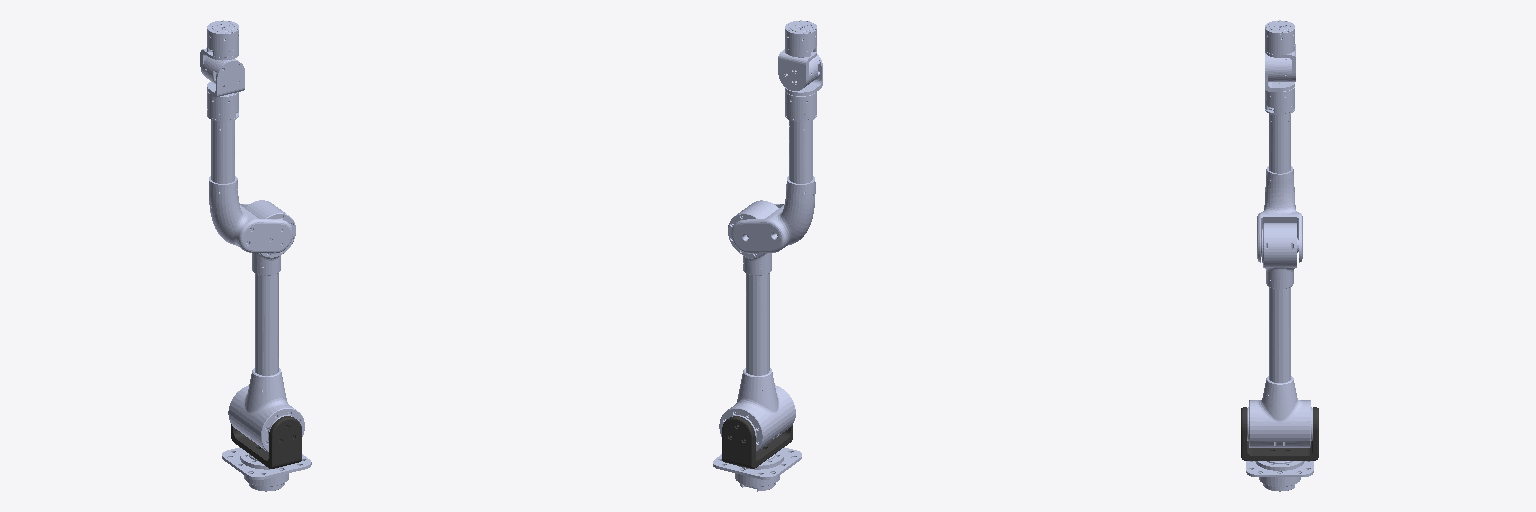
URDF robot description (URDF):
<?xml version="1.0" encoding="utf-8"?>
<!-- This URDF was automatically created by SolidWorks to URDF Exporter! Originally created by [author] ([email redacted]) 
     Commit Version: 1.6.0-4-g7f85cfe  Build Version: 1.6.7995.38578
     For more information, please see http://wiki.ros.org/sw_urdf_exporter -->
<robot
  name="URDF">
  <link
    name="base_link">
    <inertial>
      <origin
        xyz="-2.98138569159757E-07 -2.57705818131307E-05 -0.00630074222065985"
        rpy="0 0 0" />
      <mass
        value="0.254615459536077" />
      <inertia
        ixx="0.000174917439170166"
        ixy="1.33765277389404E-09"
        ixz="3.50835148793562E-11"
        iyy="0.000175251584401915"
        iyz="-4.8445630749553E-08"
        izz="0.000292230428037311" />
    </inertial>
    <visual>
      <origin
        xyz="0 0 0"
        rpy="0 0 0" />
      <geometry>
        <mesh
          filename="package://urdf/meshes/base_link.STL" />
      </geometry>
      <material
        name="">
        <color
          rgba="0.792156862745098 0.819607843137255 0.933333333333333 1" />
      </material>
    </visual>
    <collision>
      <origin
        xyz="0 0 0"
        rpy="0 0 0" />
      <geometry>
        <mesh
          filename="package://URDF/meshes/base_link.STL" />
      </geometry>
    </collision>
  </link>
  <link
    name="link_1">
    <inertial>
      <origin
        xyz="-7.80625564189563E-18 2.16840434497101E-18 0.0253614774605958"
        rpy="0 0 0" />
      <mass
        value="0.216802235799174" />
      <inertia
        ixx="0.000730974479023581"
        ixy="2.44742063739127E-20"
        ixz="8.2874946313673E-20"
        iyy="0.000201214284781248"
        iyz="1.19878054145156E-19"
        izz="0.000654802623748528" />
    </inertial>
    <visual>
      <origin
        xyz="0 0 0"
        rpy="0 0 0" />
      <geometry>
        <mesh
          filename="package://URDF/meshes/link_1.STL" />
      </geometry>
      <material
        name="">
        <color
          rgba="0.298039215686275 0.298039215686275 0.298039215686275 1" />
      </material>
    </visual>
    <collision>
      <origin
        xyz="0 0 0"
        rpy="0 0 0" />
      <geometry>
        <mesh
          filename="package://URDF/meshes/link_1.STL" />
      </geometry>
    </collision>
  </link>
  <joint
    name="joint_1"
    type="revolute">
    <origin
      xyz="0 0 0.016"
      rpy="0 0 0" />
    <parent
      link="base_link" />
    <child
      link="link_1" />
    <axis
      xyz="0 0 1" />
    <limit
      lower="0"
      upper="0"
      effort="0"
      velocity="0" />
  </joint>
  <link
    name="link_2">
    <inertial>
      <origin
        xyz="3.86748699289854E-07 -0.000871040592603672 0.118717954394452"
        rpy="0 0 0" />
      <mass
        value="1.02324732442607" />
      <inertia
        ixx="0.0010409833337174"
        ixy="-2.44410616277124E-10"
        ixz="1.04561618130573E-09"
        iyy="0.00108486643521652"
        iyz="-2.17884461253485E-06"
        izz="0.000813726982996527" />
    </inertial>
    <visual>
      <origin
        xyz="0 0 0"
        rpy="0 0 0" />
      <geometry>
        <mesh
          filename="package://URDF/meshes/link_2.STL" />
      </geometry>
      <material
        name="">
        <color
          rgba="0.792156862745098 0.819607843137255 0.933333333333333 1" />
      </material>
    </visual>
    <collision>
      <origin
        xyz="0 0 0"
        rpy="0 0 0" />
      <geometry>
        <mesh
          filename="package://URDF/meshes/link_2.STL" />
      </geometry>
    </collision>
  </link>
  <joint
    name="joint_2"
    type="revolute">
    <origin
      xyz="0 0 0.0600000000909806"
      rpy="0 0 0" />
    <parent
      link="link_1" />
    <child
      link="link_2" />
    <axis
      xyz="0 -1 0" />
    <limit
      lower="0"
      upper="0"
      effort="0"
      velocity="0" />
  </joint>
  <link
    name="link_3">
    <inertial>
      <origin
        xyz="-0.0647269511706695 0.00011712180289797 0.0756552938999491"
        rpy="0 0 0" />
      <mass
        value="0.41975996998103" />
      <inertia
        ixx="0.000407744522391826"
        ixy="-9.23082205553972E-07"
        ixz="0.000147065399235861"
        iyy="0.000607574694532842"
        iyz="3.75502039221228E-07"
        izz="0.000328351192949401" />
    </inertial>
    <visual>
      <origin
        xyz="0 0 0"
        rpy="0 0 0" />
      <geometry>
        <mesh
          filename="package://URDF/meshes/link_3.STL" />
      </geometry>
      <material
        name="">
        <color
          rgba="0.792156862745098 0.819607843137255 0.933333333333333 1" />
      </material>
    </visual>
    <collision>
      <origin
        xyz="0 0 0"
        rpy="0 0 0" />
      <geometry>
        <mesh
          filename="package://URDF/meshes/link_3.STL" />
      </geometry>
    </collision>
  </link>
  <joint
    name="joint_3"
    type="revolute">
    <origin
      xyz="0 0 0.350000000310628"
      rpy="0 0 0" />
    <parent
      link="link_2" />
    <child
      link="link_3" />
    <axis
      xyz="0 -1 0" />
    <limit
      lower="0"
      upper="0"
      effort="0"
      velocity="0" />
  </joint>
  <link
    name="link_4">
    <inertial>
      <origin
        xyz="0.000263294390210542 -0.0036132120084184 0.0278836872340231"
        rpy="0 0 0" />
      <mass
        value="0.075580412789999" />
      <inertia
        ixx="2.77601546415907E-05"
        ixy="-3.4768276366302E-09"
        ixz="3.12547328983328E-09"
        iyy="3.5835509729187E-05"
        iyz="4.89228919447582E-06"
        izz="2.48012939160028E-05" />
    </inertial>
    <visual>
      <origin
        xyz="0 0 0"
        rpy="0 0 0" />
      <geometry>
        <mesh
          filename="package://URDF/meshes/link_4.STL" />
      </geometry>
      <material
        name="">
        <color
          rgba="0.792156862745098 0.819607843137255 0.933333333333333 1" />
      </material>
    </visual>
    <collision>
      <origin
        xyz="0 0 0"
        rpy="0 0 0" />
      <geometry>
        <mesh
          filename="package://URDF/meshes/link_4.STL" />
      </geometry>
    </collision>
  </link>
  <joint
    name="joint_4"
    type="revolute">
    <origin
      xyz="-0.083472071148278 1.39946780669566E-05 0.275646856718986"
      rpy="0 0 0" />
    <parent
      link="link_3" />
    <child
      link="link_4" />
    <axis
      xyz="0 0 -1" />
    <limit
      lower="0"
      upper="0"
      effort="0"
      velocity="0" />
  </joint>
  <link
    name="link_5">
    <inertial>
      <origin
        xyz="0.000276756455783012 0.00740062480301982 0.0378756871794224"
        rpy="0 0 0" />
      <mass
        value="0.0701421412360654" />
      <inertia
        ixx="2.78197628040674E-05"
        ixy="3.40109199998186E-10"
        ixz="-3.37755318540743E-09"
        iyy="2.77107028290931E-05"
        iyz="4.92841394090968E-06"
        izz="3.23157378784047E-05" />
    </inertial>
    <visual>
      <origin
        xyz="0 0 0"
        rpy="0 0 0" />
      <geometry>
        <mesh
          filename="package://URDF/meshes/link_5.STL" />
      </geometry>
      <material
        name="">
        <color
          rgba="0.792156862745098 0.819607843137255 0.933333333333333 1" />
      </material>
    </visual>
    <collision>
      <origin
        xyz="0 0 0"
        rpy="0 0 0" />
      <geometry>
        <mesh
          filename="package://URDF/meshes/link_5.STL" />
      </geometry>
    </collision>
  </link>
  <joint
    name="joint_5"
    type="revolute">
    <origin
      xyz="0 -1.40908325965694E-05 0.0360000000000001"
      rpy="0 0 0" />
    <parent
      link="link_4" />
    <child
      link="link_5" />
    <axis
      xyz="0 -1 0" />
    <limit
      lower="0"
      upper="0"
      effort="0"
      velocity="0" />
  </joint>
  <link
    name="link_6">
    <inertial>
      <origin
        xyz="-3.61894977984889E-07 -3.37398287416973E-06 -0.00430716036612844"
        rpy="0 0 0" />
      <mass
        value="0.00659378666213181" />
      <inertia
        ixx="6.64504489936856E-07"
        ixy="9.69569426691353E-10"
        ixz="-1.07573490063829E-11"
        iyy="6.7343534803763E-07"
        iyz="-1.00267859644452E-10"
        izz="1.21719552375967E-06" />
    </inertial>
    <visual>
      <origin
        xyz="0 0 0"
        rpy="0 0 0" />
      <geometry>
        <mesh
          filename="package://URDF/meshes/link_6.STL" />
      </geometry>
      <material
        name="">
        <color
          rgba="0.792156862745098 0.819607843137255 0.933333333333333 1" />
      </material>
    </visual>
    <collision>
      <origin
        xyz="0 0 0"
        rpy="0 0 0" />
      <geometry>
        <mesh
          filename="package://URDF/meshes/link_6.STL" />
      </geometry>
    </collision>
  </link>
  <joint
    name="joint_6"
    type="revolute">
    <origin
      xyz="0 1.50071597443805E-05 0.079"
      rpy="0 0 0" />
    <parent
      link="link_5" />
    <child
      link="link_6" />
    <axis
      xyz="0 0 -1" />
    <limit
      lower="0"
      upper="0"
      effort="0"
      velocity="0" />
  </joint>
</robot>

--- Render facts (derived) ---
Views: 3 orthographic renders of the robot side by side, from view 1: azimuth 30°, elevation 25°; view 2: azimuth 150°, elevation 25°; view 3: azimuth 270°, elevation 25°.
Model URDF with 7 links and 6 joints (6 revolute), rooted at base_link, posed every joint at zero.
Visible links, largest first — view 1: link_2, link_3, link_1, base_link, link_4, link_5; view 2: link_2, link_3, link_1, link_5, base_link, link_4; view 3: link_2, link_3, base_link, link_1, link_5, link_4.
Link boxes in pixels (bbox=[...]): link_2: bbox=[228, 200, 304, 452]; link_3: bbox=[207, 91, 292, 253]; link_1: bbox=[231, 416, 301, 468]; base_link: bbox=[222, 447, 311, 491]; link_4: bbox=[203, 57, 244, 96]; link_5: bbox=[200, 20, 238, 75]; link_2: bbox=[719, 200, 795, 451]; link_3: bbox=[731, 91, 816, 253]; link_1: bbox=[722, 416, 792, 468]; link_5: bbox=[778, 20, 816, 90]; base_link: bbox=[713, 447, 801, 491]; link_4: bbox=[785, 54, 822, 95]; link_2: bbox=[1247, 223, 1312, 447]; link_3: bbox=[1257, 87, 1302, 262]; base_link: bbox=[1246, 461, 1313, 491]; link_1: bbox=[1241, 407, 1318, 460]; link_5: bbox=[1265, 20, 1295, 81]; link_4: bbox=[1265, 53, 1294, 91].
Bounding box of the posed robot: 0.1705 × 0.138 × 0.8586 m (x, y, z).
Meshes: 7 distinct files referenced, 7 mesh visuals loaded (7 binary STL).